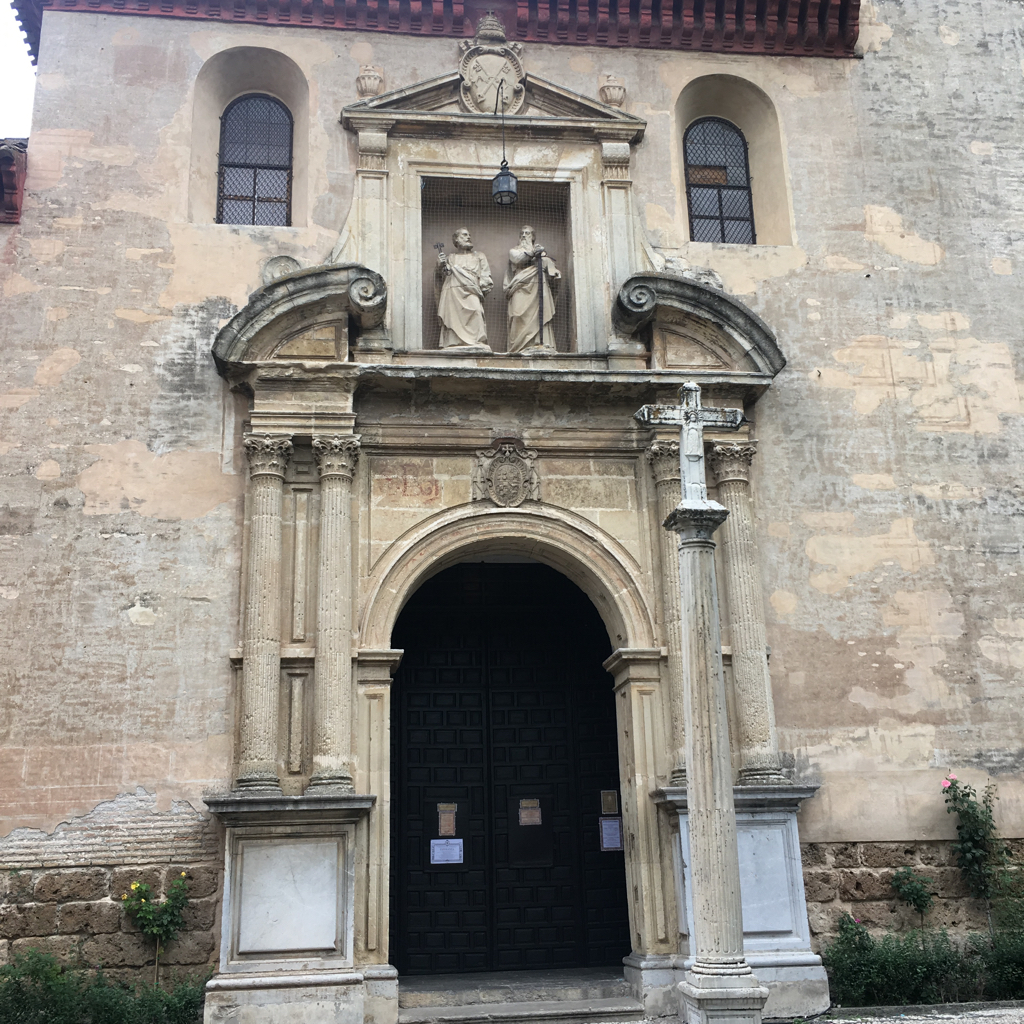arco-medio-punto: (380, 516, 643, 708)
fronton-partido: (215, 263, 794, 395), (338, 66, 654, 141)
vano-adintelado: (398, 161, 597, 353)
